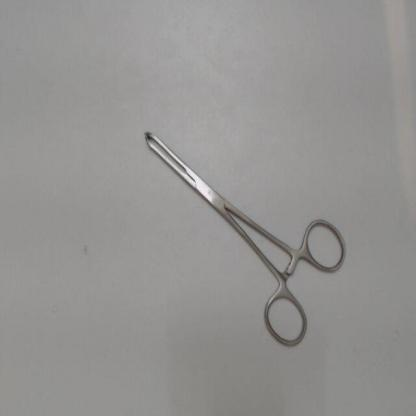Allis Tissue Forceps: (135, 123, 354, 357)
